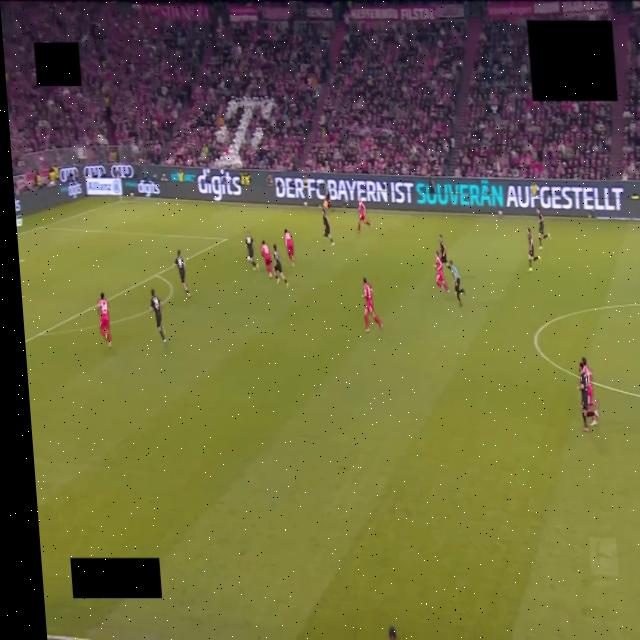player: (579, 361, 598, 431), (363, 278, 382, 332), (150, 289, 166, 344), (583, 357, 598, 407), (174, 250, 190, 296), (98, 293, 111, 347), (273, 244, 288, 287), (536, 207, 550, 248), (527, 228, 540, 271), (436, 252, 449, 293), (322, 207, 334, 245), (261, 240, 272, 277), (246, 233, 257, 270), (358, 200, 371, 231), (284, 229, 294, 265), (439, 235, 448, 267), (389, 626, 396, 639)
referee: (449, 260, 465, 306)
